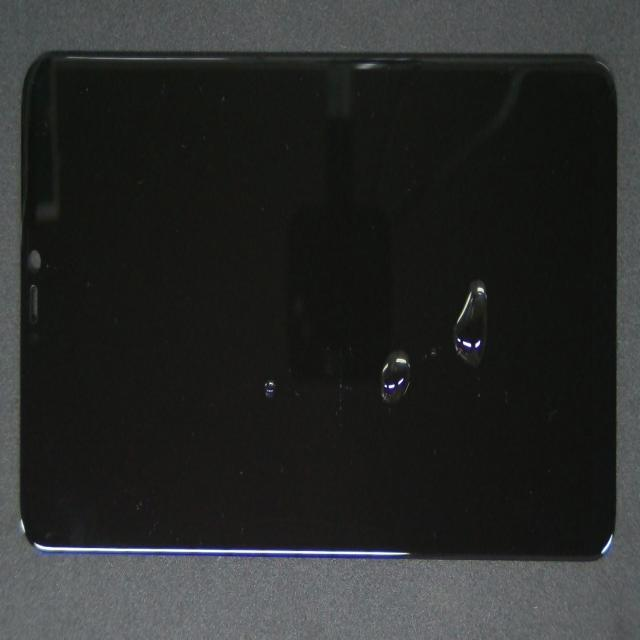oil: (447, 273, 498, 373), (376, 341, 420, 428), (254, 361, 280, 403)
